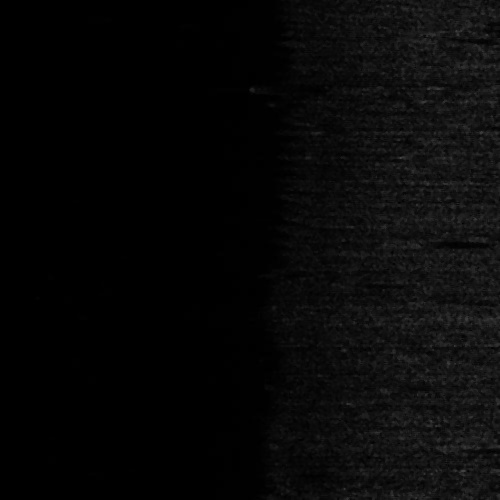object: (387, 237, 440, 244)
shadow: (414, 237, 500, 244)
